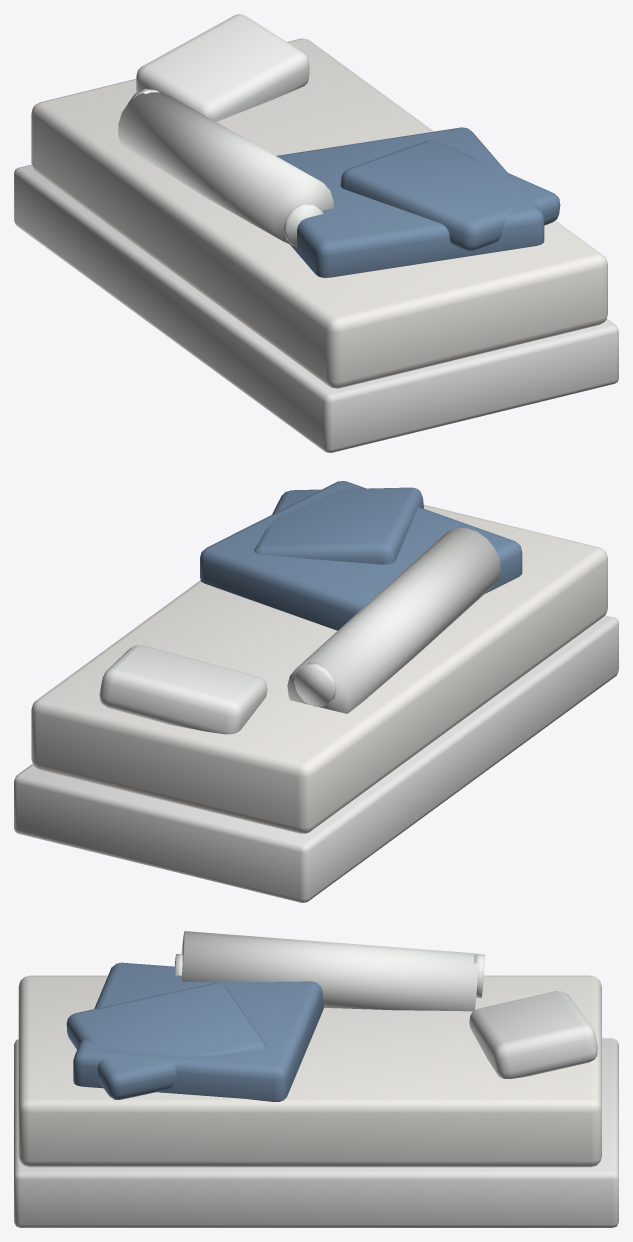
File: Indo_Bed_Guling.fbx
The picture shows the model from 3 angles, top to bottom: view 1: azimuth 30°, elevation 25°; view 2: azimuth 150°, elevation 25°; view 3: azimuth 270°, elevation 25°; orthographic projection. The views are drawn at different scales.
Visible parts, largest first — view 1: Indo_Bed_Guling; view 2: Indo_Bed_Guling; view 3: Indo_Bed_Guling.
Boxes of the visible parts, x1=… form: Indo_Bed_Guling: x1=14, y1=14, x2=618, y2=452; Indo_Bed_Guling: x1=14, y1=481, x2=618, y2=902; Indo_Bed_Guling: x1=14, y1=931, x2=618, y2=1227.
Size of the model in its own units: 105 by 67.06 by 195.
